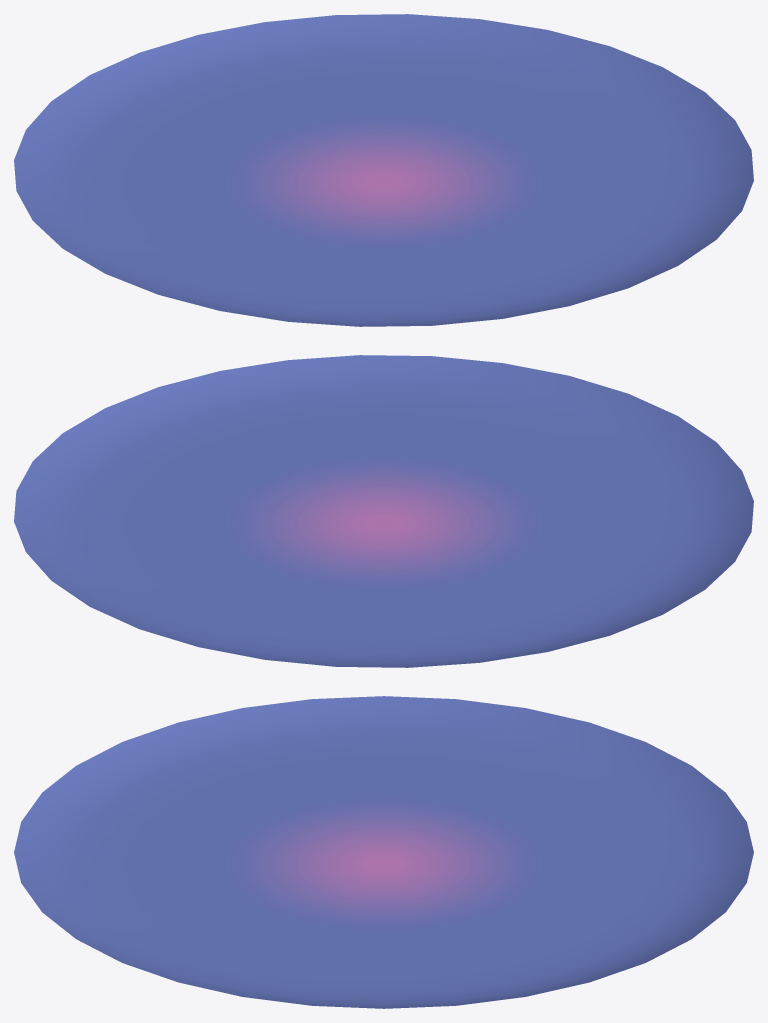
Rendered from Infinite grediant mesh.fbx.
3 renders of one model, top to bottom at view 1: azimuth 30°, elevation 25°; view 2: azimuth 150°, elevation 25°; view 3: azimuth 270°, elevation 25°, orthographic.
Visible parts, largest first — view 1: Infinite Gradient mesh; view 2: Infinite Gradient mesh; view 3: Infinite Gradient mesh.
Part boxes in pixels (<box>): Infinite Gradient mesh: <box>14,14,753,326</box>; Infinite Gradient mesh: <box>14,355,753,667</box>; Infinite Gradient mesh: <box>14,696,753,1008</box>.
Bounding box in the file's own units: 4247 × 75.68 × 4247.
